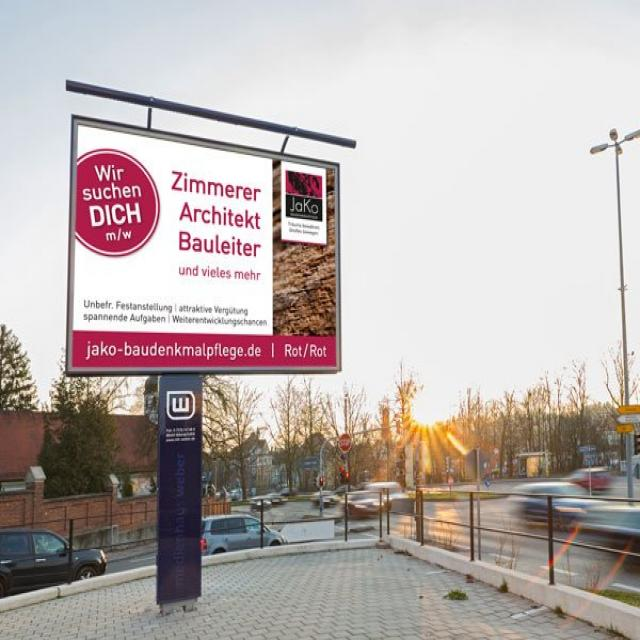Werbetafel frei: (64, 115, 339, 378)
